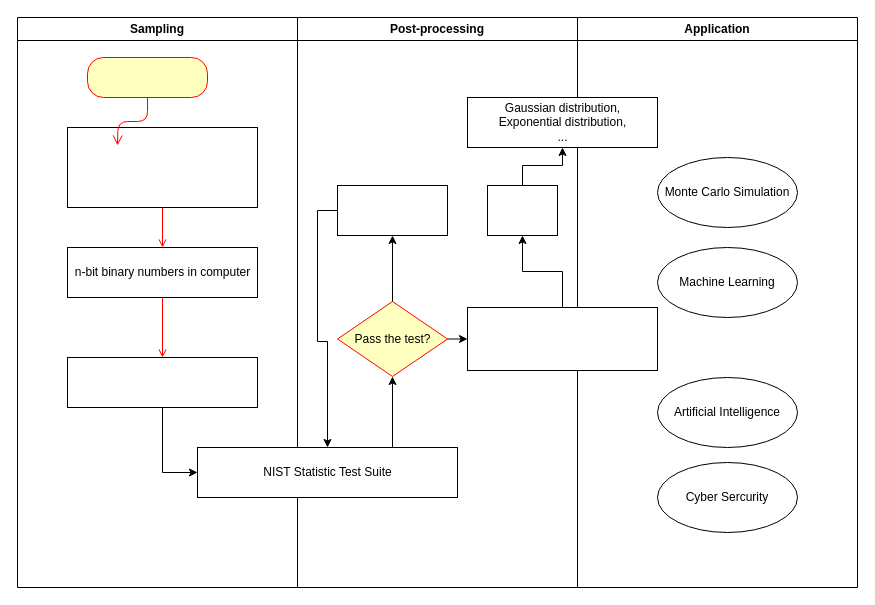
The diagram is 875 pixels wide and 605 high, and some of its shapes have lost their labels. The centre of each missing label's shape, as x and y in pixels:
"QRNG" belongs at (x=147, y=77).
"random binary sequence" belongs at (x=162, y=382).
"Raw data from photon detector {0,1,2,...,2 n -1}" belongs at (x=162, y=167).
"Toeplitz-matrix hash, (algo name), ..." belongs at (x=392, y=210).
"Uniformly distributed random numbers" belongs at (x=562, y=338).
"Ziggurat, ..." belongs at (x=522, y=210).
